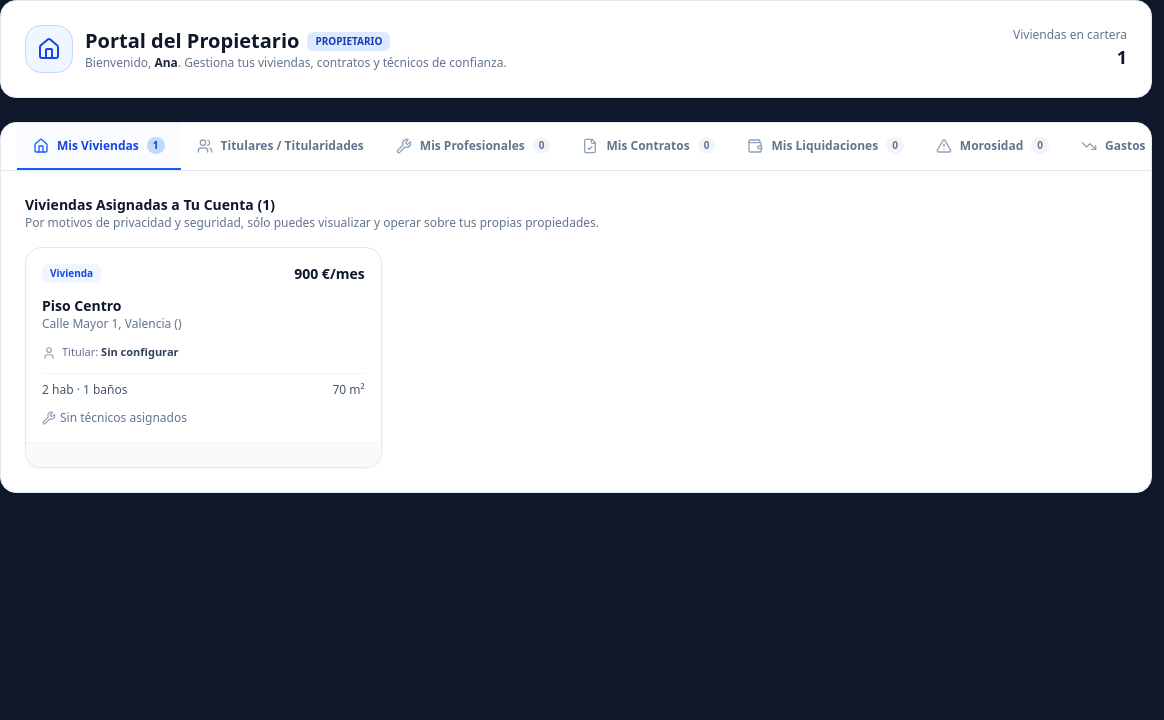
portal: pestaña de titularidades › abre el panel y muestra los titulares vigentes del inmueble
Click the button "Titulares / Titularidades" at coordinates (280, 147), box [180,123,380,170]
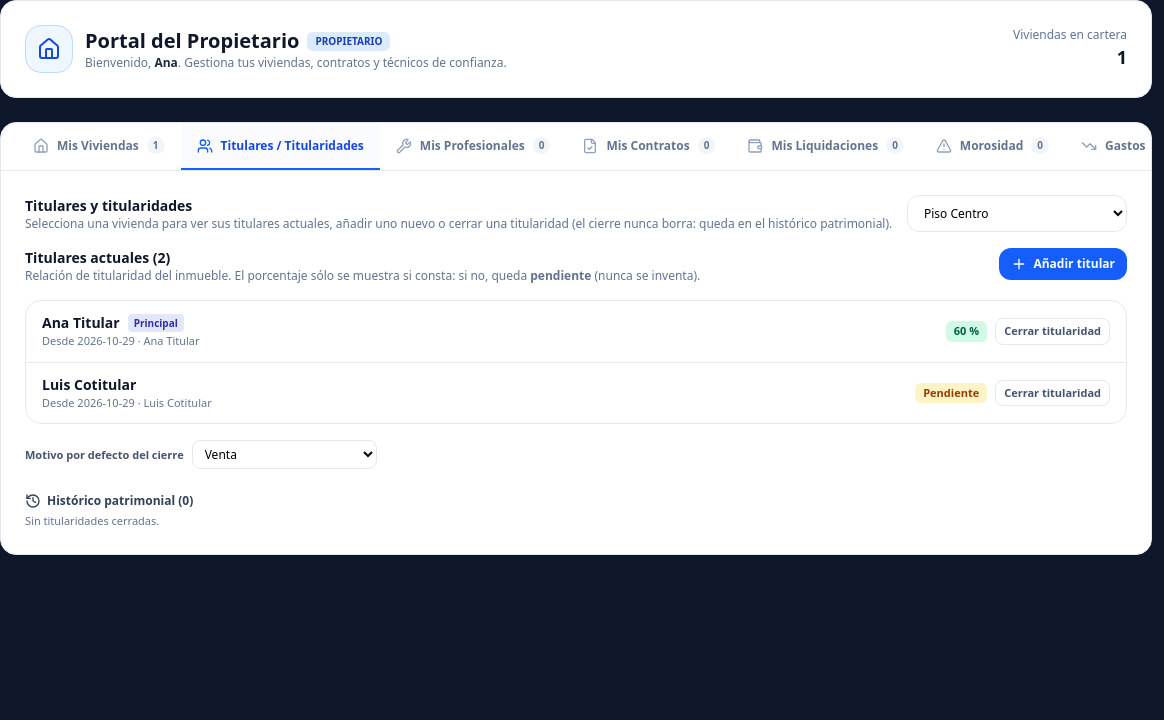
Now the element with test id "panel-titularidades" is shown, box [25,248,1127,530]
Now the heading "Titulares actuales (2)" is shown, box [25,248,170,267]
Now the text "Ana Titular" is shown, box [42,313,120,332]
